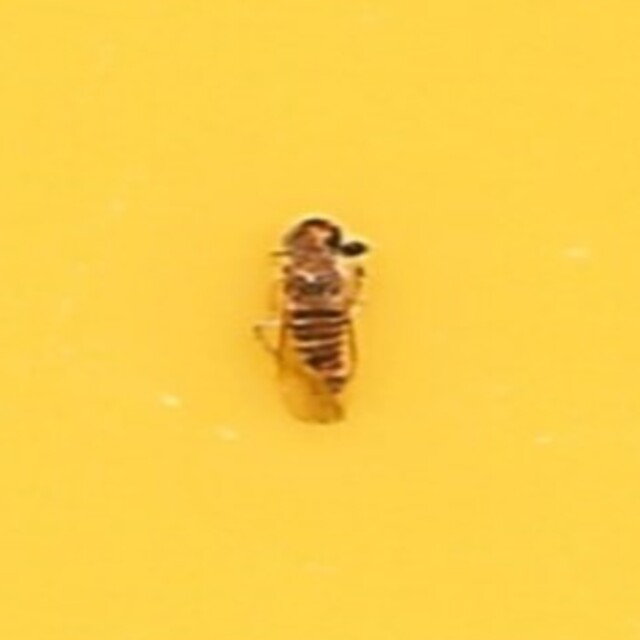Hemiptera: (269, 215, 371, 425)
